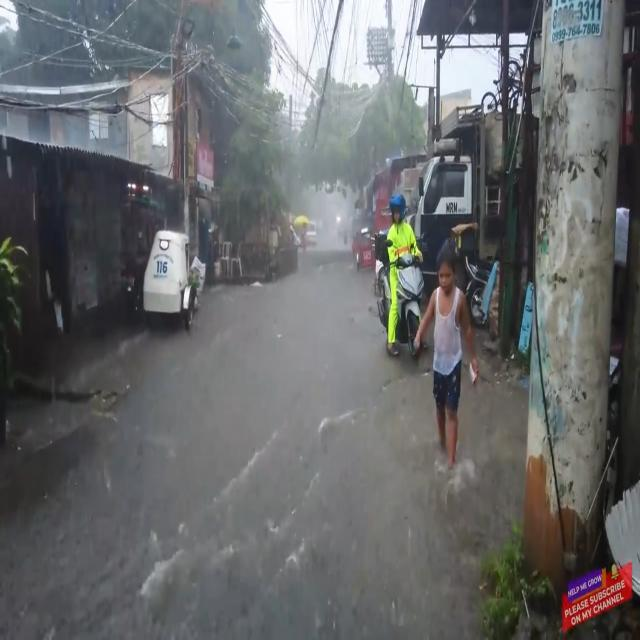half: (389, 193, 407, 224)
